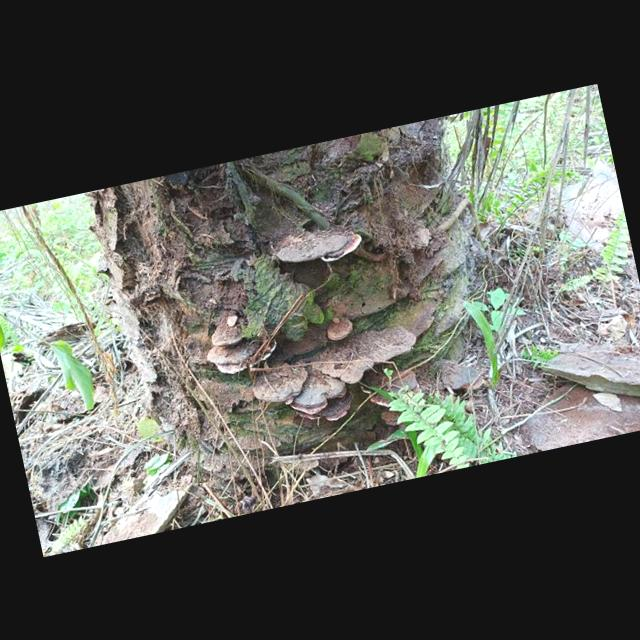ganoderma: (286, 365, 361, 430), (275, 223, 367, 273), (309, 339, 378, 392), (206, 335, 283, 380), (249, 360, 315, 412), (350, 321, 421, 369), (360, 367, 428, 413), (439, 359, 487, 396), (209, 315, 253, 350), (324, 314, 356, 342), (379, 406, 404, 429)
